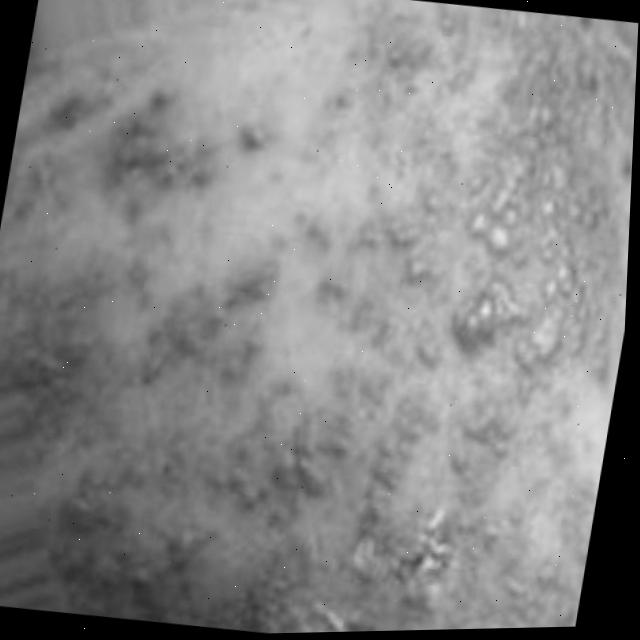Shingles: (11, 0, 640, 639)
